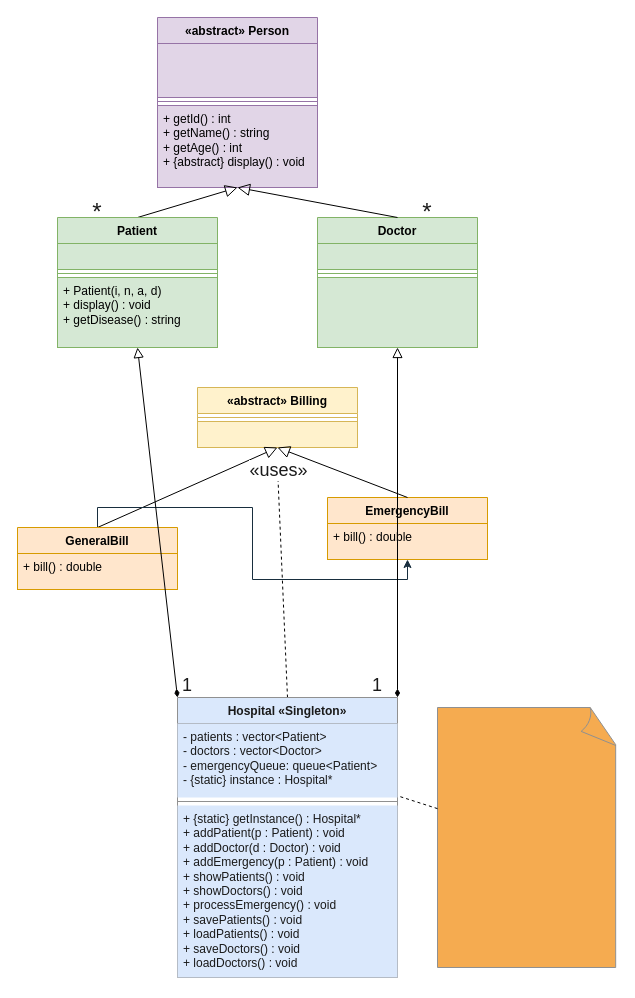
Image size: 635x998. Some labels were removed from this diagram. Here are the shapes that lost their labels. From the top down, the centre of each, then its label:
At pixel 237 70: "# id : int # age : int # name : string".
At pixel 137 256: "- disease : string".
At pixel 397 256: "- spec : string".
At pixel 397 312: "+ Doctor(i, n, a, s) + display() : void + getSpec() : string".
At pixel 277 434: "+ {abstract} bill() : double".
At pixel 527 837: "«template» show(vector&) : void Used by Hospital to display patients and doctors".
